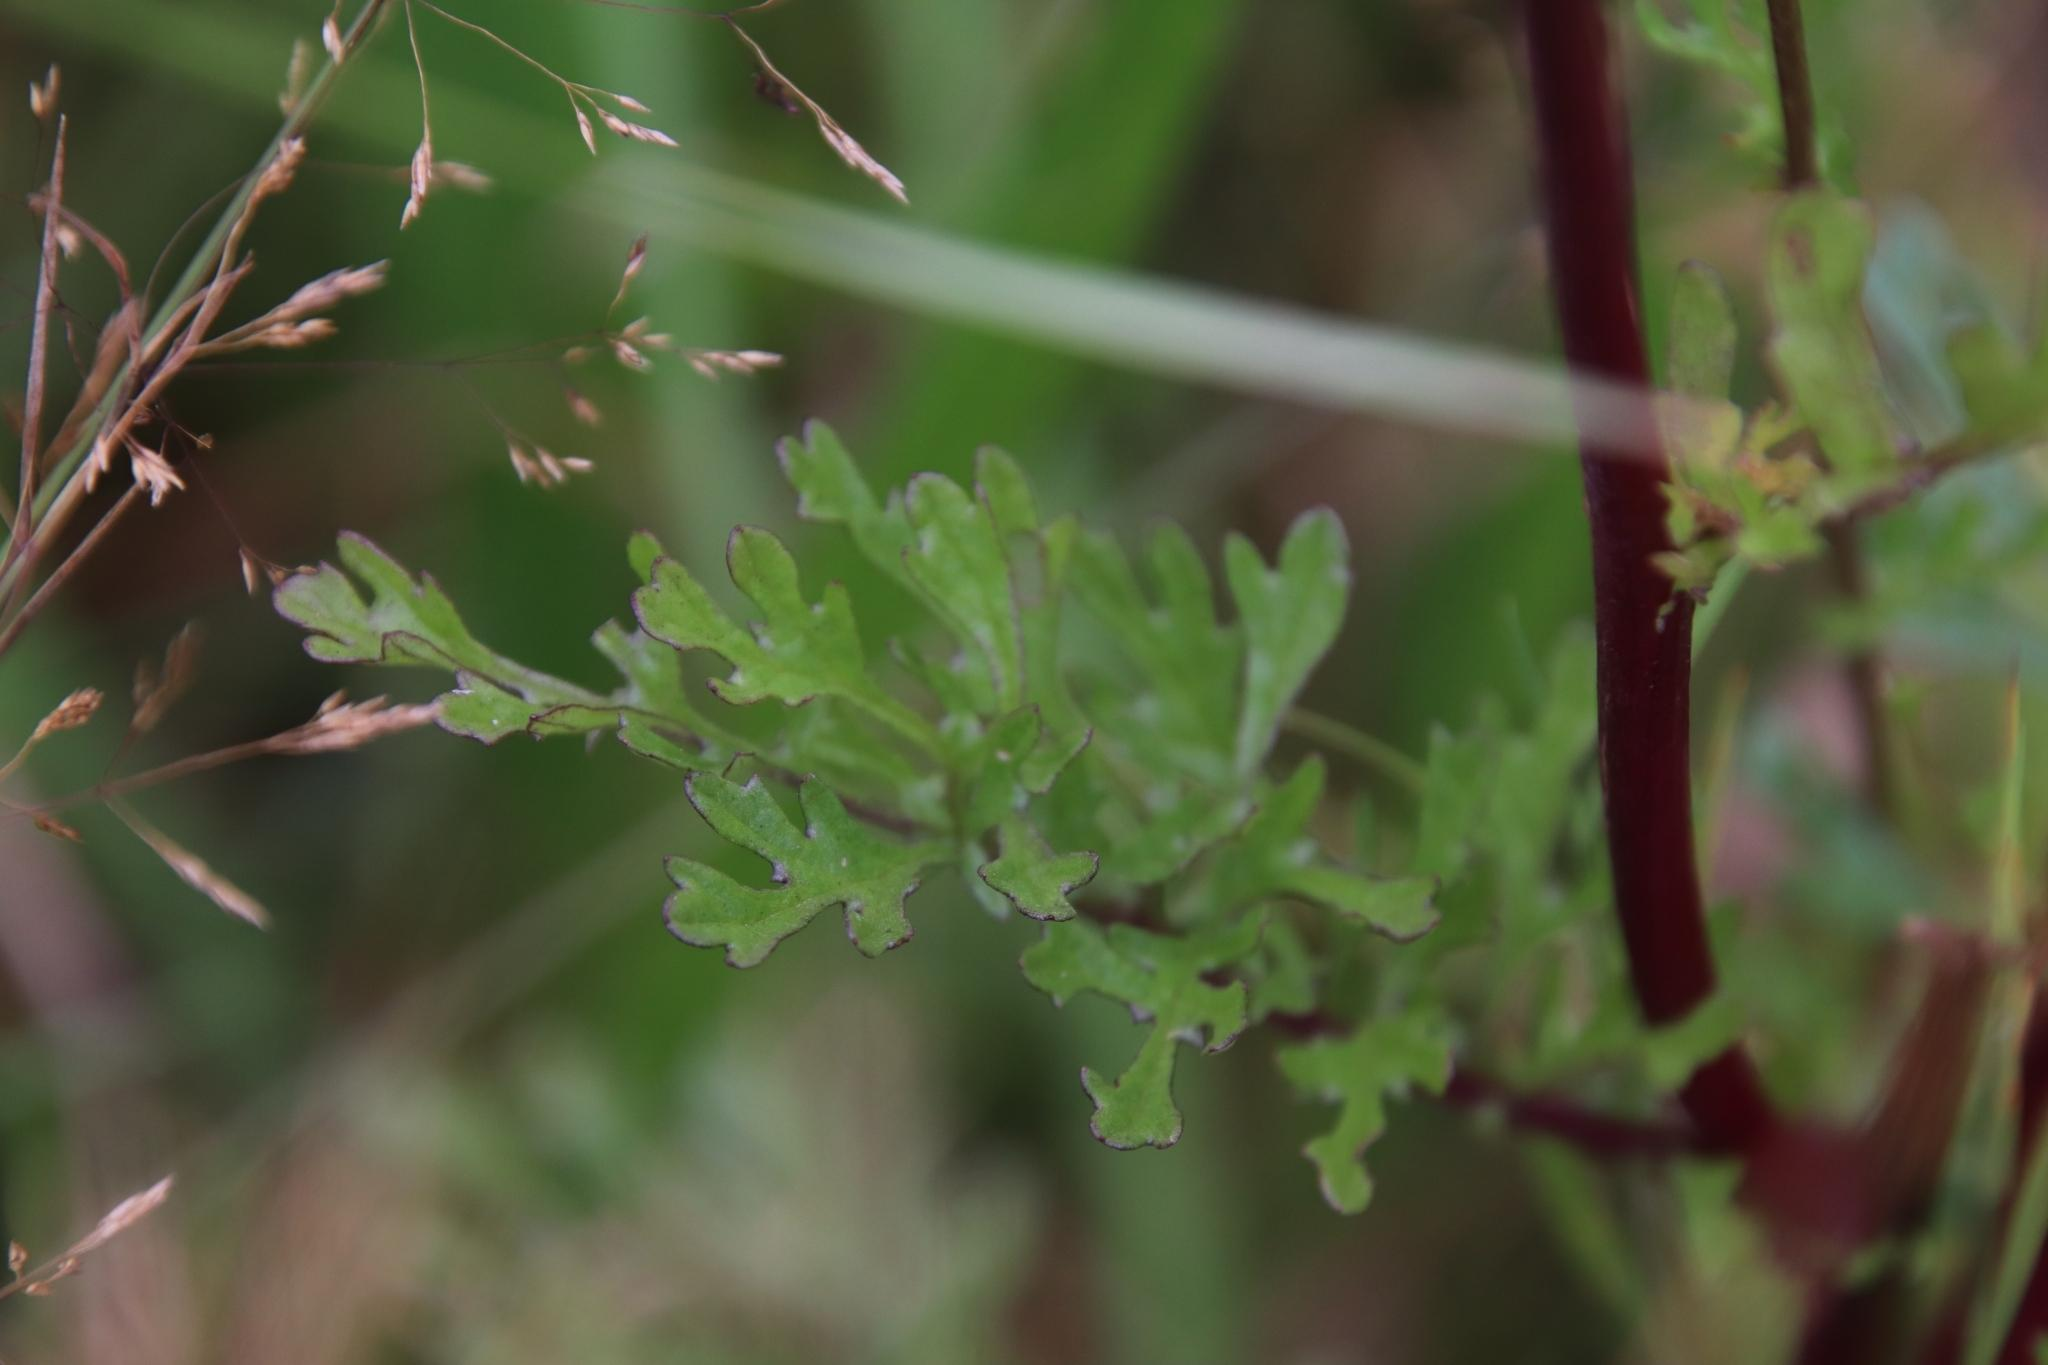Jacobaea vulgaris: (210, 328, 2048, 1342)
